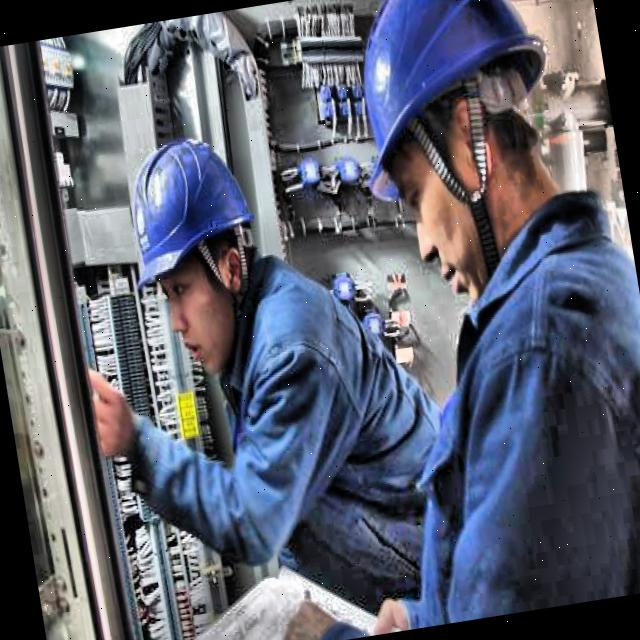helmet: (319, 0, 589, 288), (102, 96, 286, 393)
